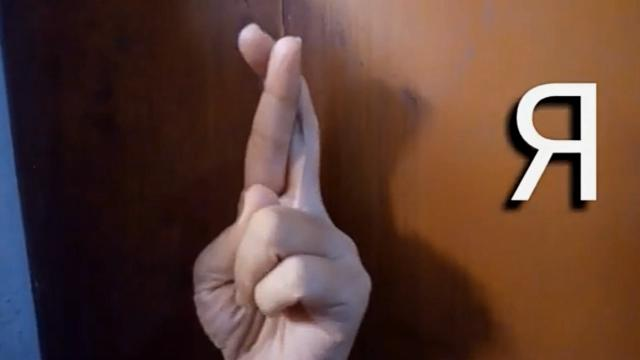R: (186, 22, 380, 360)
